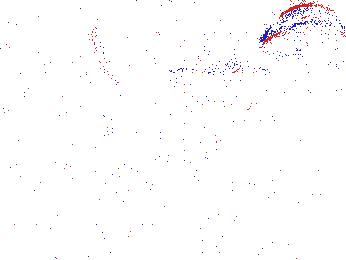moon jellyfish: (163, 66, 272, 123), (92, 1, 163, 85), (158, 2, 239, 71), (142, 130, 218, 199), (260, 4, 346, 54)
